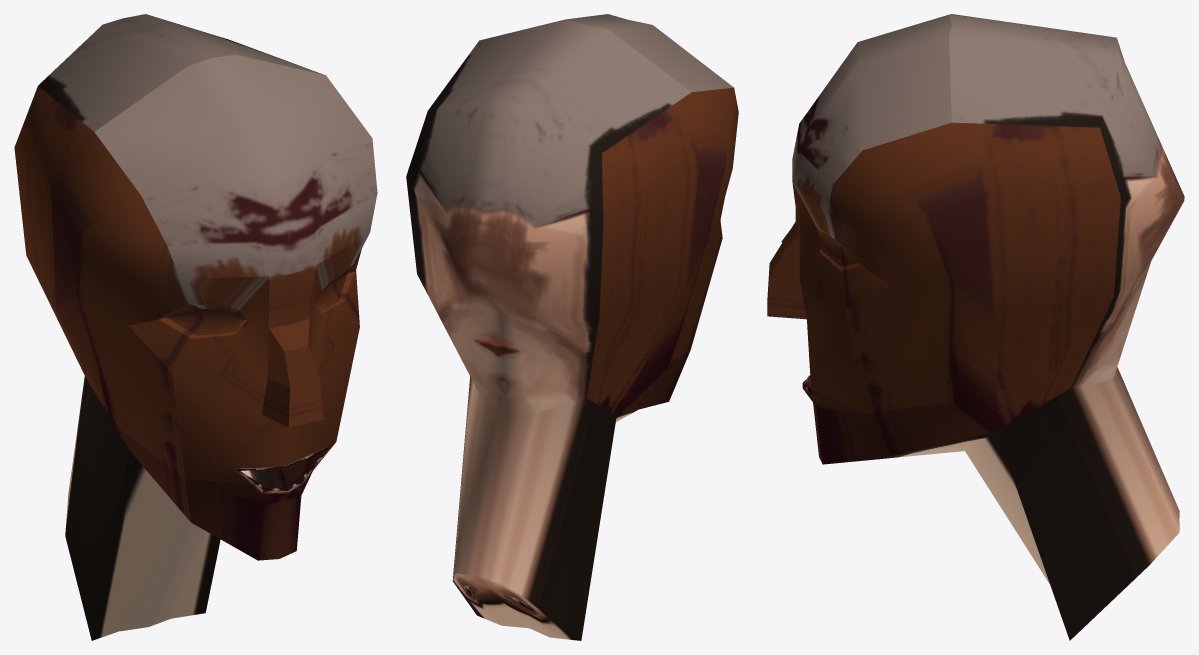
The model's file is animation.fbx.
3 views of the same model, side by side, from view 1: azimuth 30°, elevation 25°; view 2: azimuth 150°, elevation 25°; view 3: azimuth 270°, elevation 25° (orthographic). The views are drawn at different scales.
Visible parts, largest first — view 1: sg_face; view 2: sg_face; view 3: sg_face.
Part boxes in pixels (x1,y1,x2,y2): sg_face: [14, 14, 377, 640]; sg_face: [406, 14, 738, 640]; sg_face: [767, 14, 1184, 640].
Bounding box in the file's own units: 2.2 × 4.54 × 2.91.
1 material, 1 textured.
